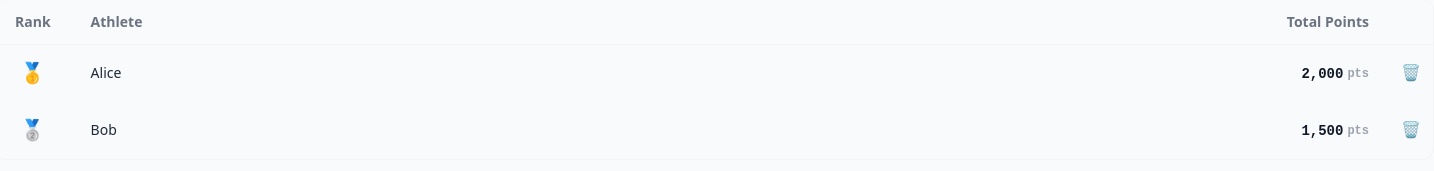
it: LeaderboardTable › only shows confirmation for the clicked row, not others
The width and height of the screenshot is (1434, 171).
Click the button titled "Delete user" in the row of "Alice" at (1411, 72), box x1=1401 y1=64 x2=1421 y2=80
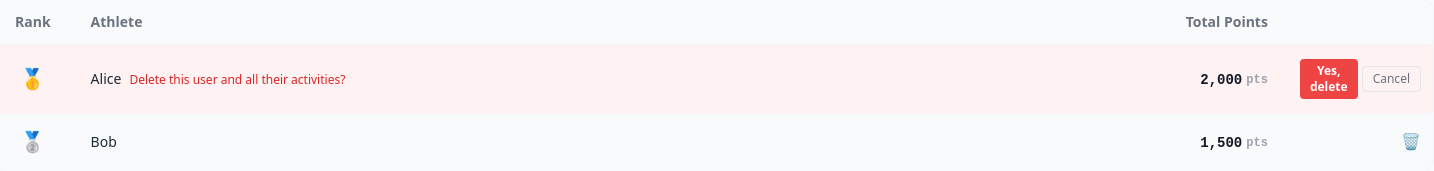
Check: the link "Bob" is shown, box x1=91 y1=132 x2=117 y2=151
Check: the button "Yes, delete" is shown, box x1=1300 y1=59 x2=1358 y2=99
